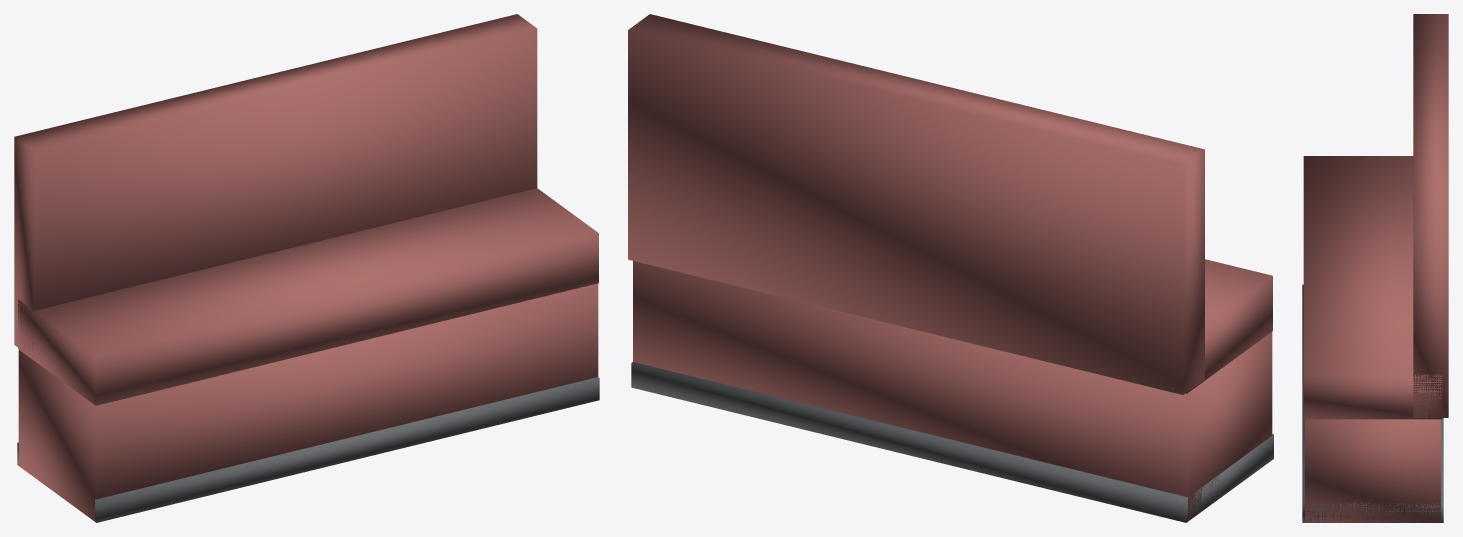
Rendered from diner_booth_double__compact.glb.
3 renders of one model, left to right at view 1: azimuth 30°, elevation 25°; view 2: azimuth 150°, elevation 25°; view 3: azimuth 270°, elevation 25°, orthographic. The views are drawn at different scales.
Visible parts, largest first — view 1: world; view 2: world; view 3: world.
Part boxes in pixels (box(x1,y1,x2,y2)): world: box(14, 14, 599, 522); world: box(628, 14, 1273, 522); world: box(1302, 14, 1448, 522).
Bounding box in the file's own units: 1.76 × 1.09 × 0.4988.
